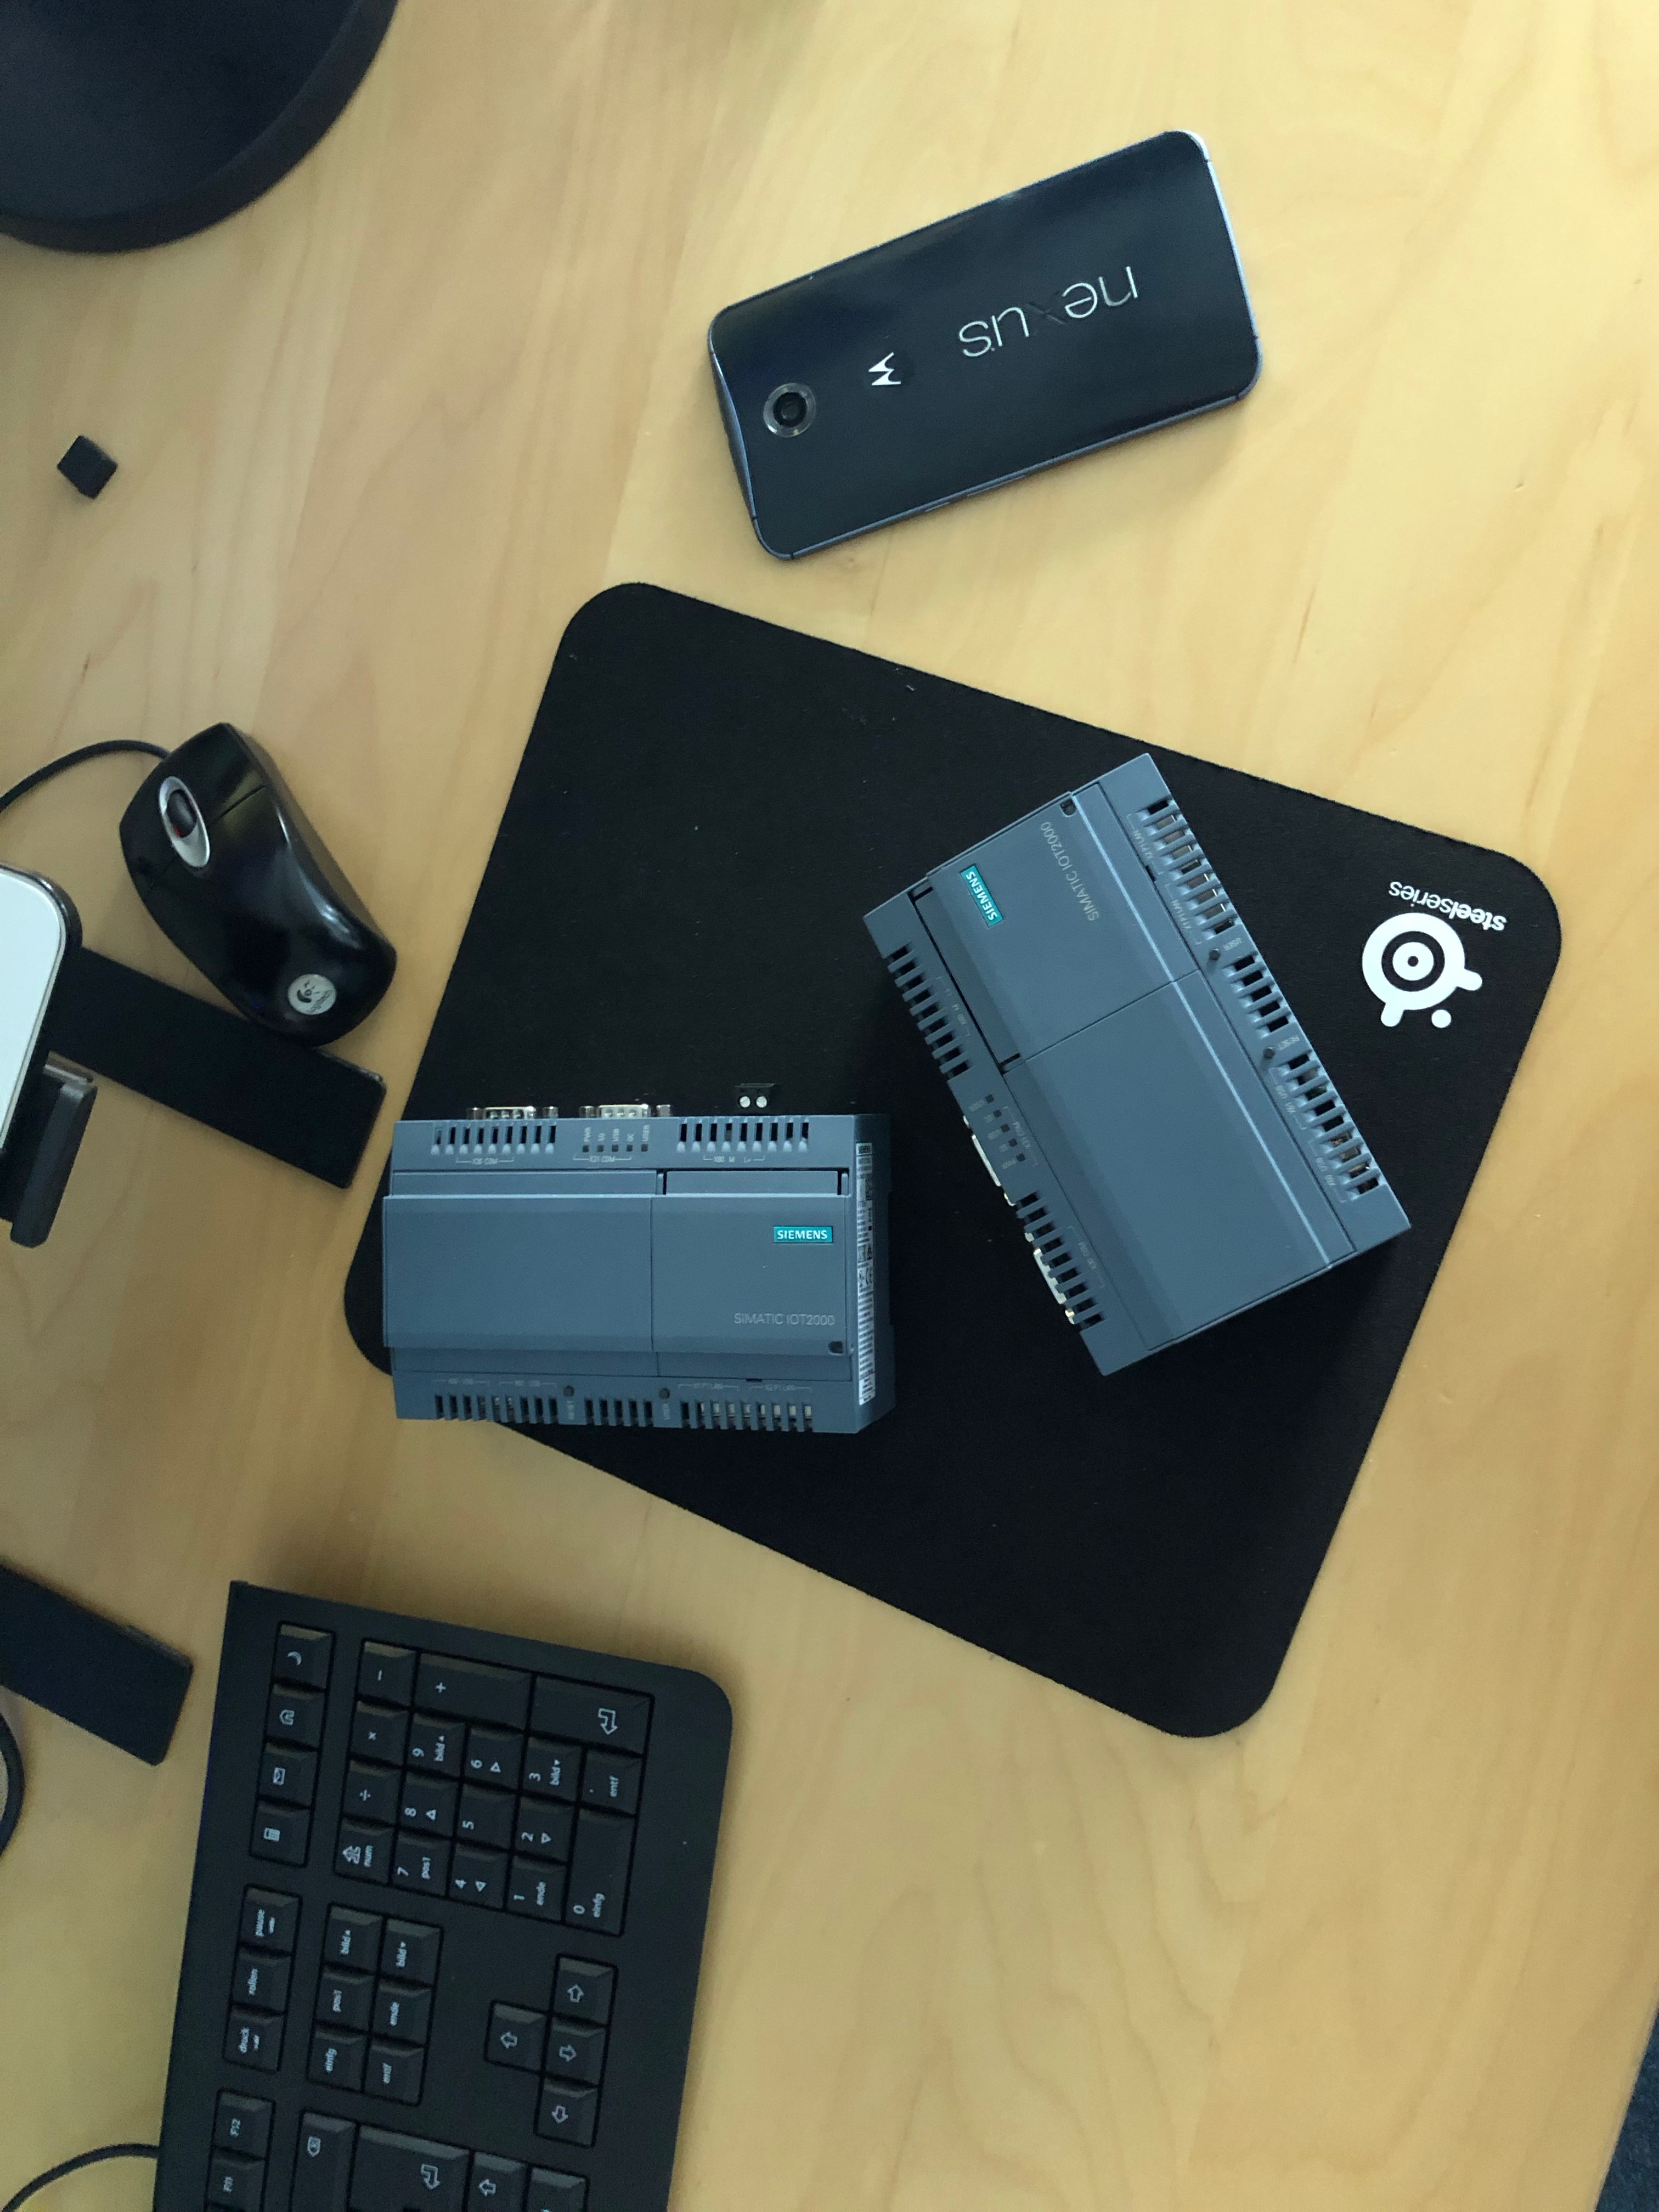device: (864, 752, 1412, 1376), (382, 1083, 896, 1433)
